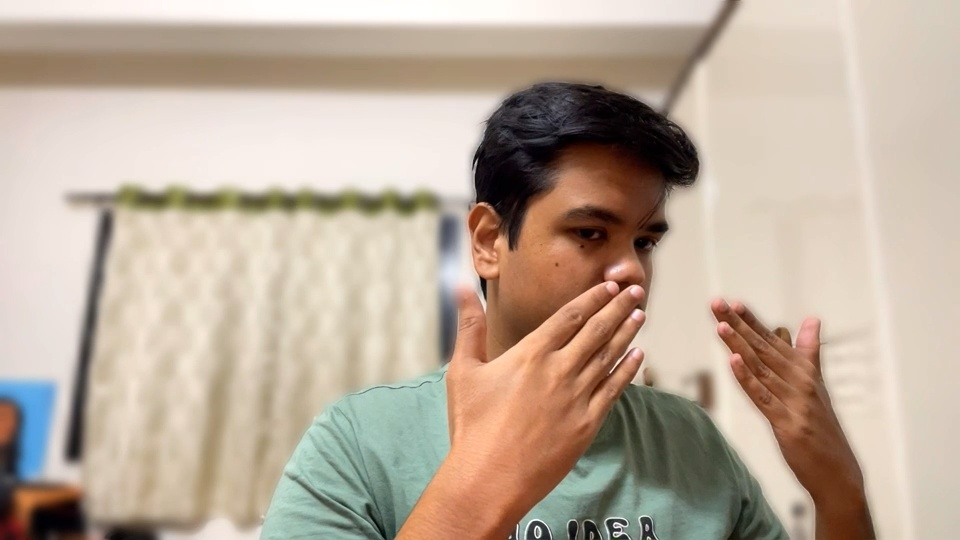ThankYou: (430, 271, 868, 513)
